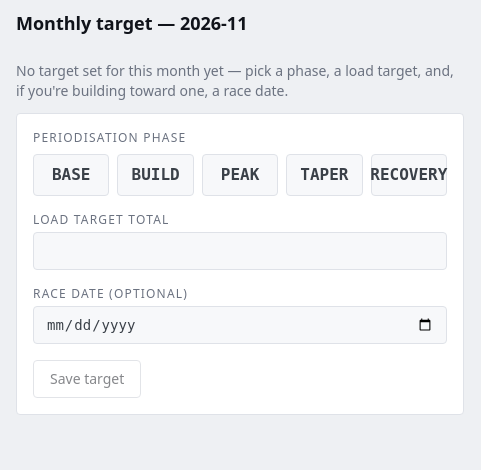
Test: TargetView › surfaces a save error without losing the form
Expected: the element with test id "target-form" is shown, [16,113,464,415]
Click the button with test id "target-phase-BASE" at [71, 175], box [33,154,109,196]
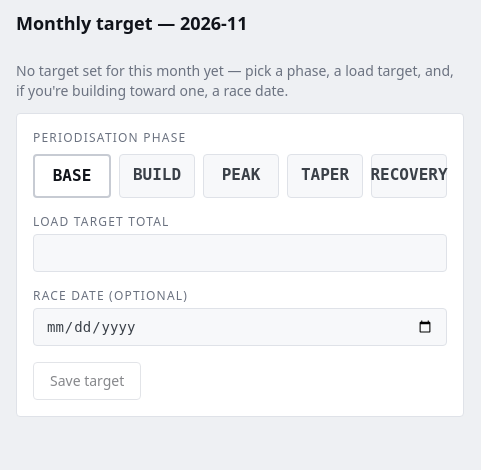
Type "300" into the number field with test id "target-load-input" at [240, 253], box [33,234,447,272]
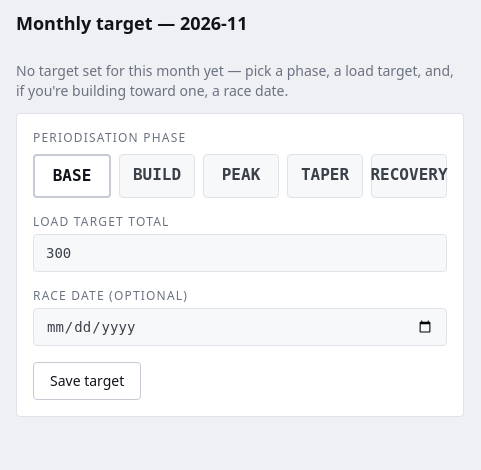
Click the button with test id "target-save-button" at [87, 381], box [33,362,141,400]
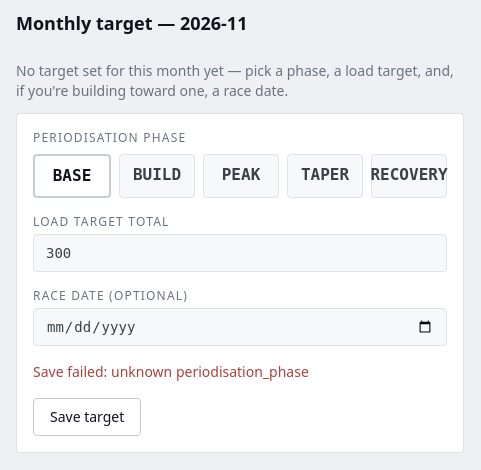
Expected: the text with test id "target-save-error" shows "unknown periodisation_phase", [111,362,309,381]
